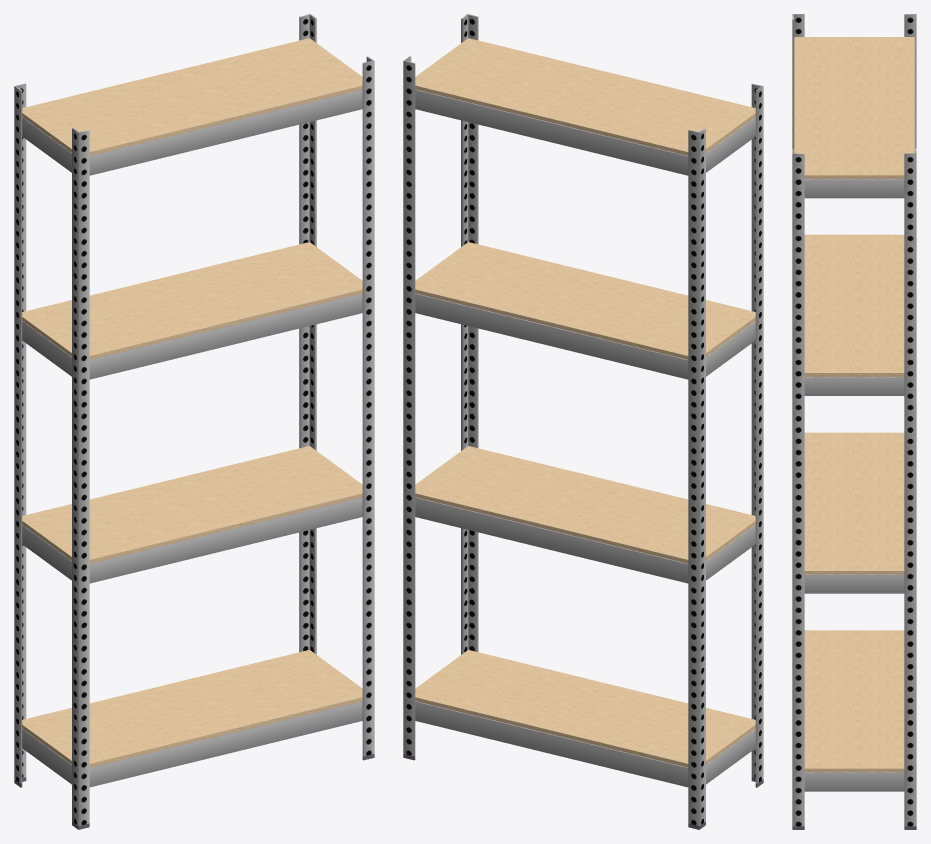
The model's file is shelf_steel_shelves.glb.
3 views of the same model, side by side, from view 1: azimuth 30°, elevation 25°; view 2: azimuth 150°, elevation 25°; view 3: azimuth 270°, elevation 25° (orthographic). The views are drawn at different scales.
Visible parts, largest first — view 1: 3_3, 13_13, 5_5; view 2: 3_3, 13_13, 5_5; view 3: 3_3, 13_13, 5_5.
Boxes of the visible parts, <box> form: 3_3: <box>22,38,362,767</box>; 13_13: <box>14,14,374,825</box>; 5_5: <box>22,89,362,787</box>; 3_3: <box>415,38,755,767</box>; 13_13: <box>403,14,763,825</box>; 5_5: <box>415,89,755,787</box>; 3_3: <box>794,37,914,772</box>; 13_13: <box>792,14,916,826</box>; 5_5: <box>804,179,904,791</box>.
Size of the model in its own units: 0.8 by 1.8 by 0.3.
4 materials, 3 textured.
